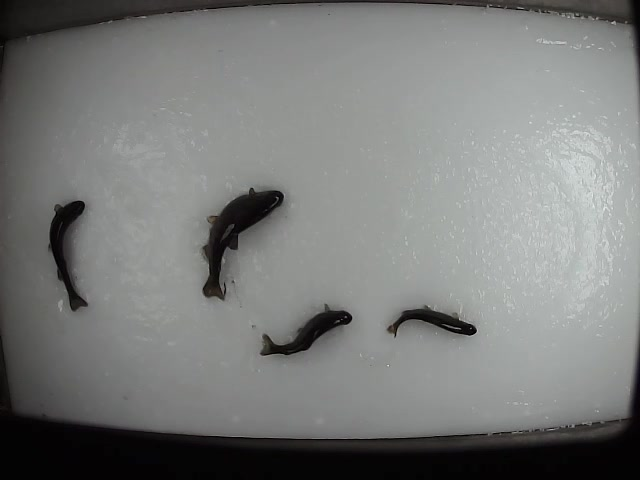Fish: (201, 187, 284, 299), (257, 304, 352, 357), (48, 200, 88, 312), (387, 305, 477, 339)
